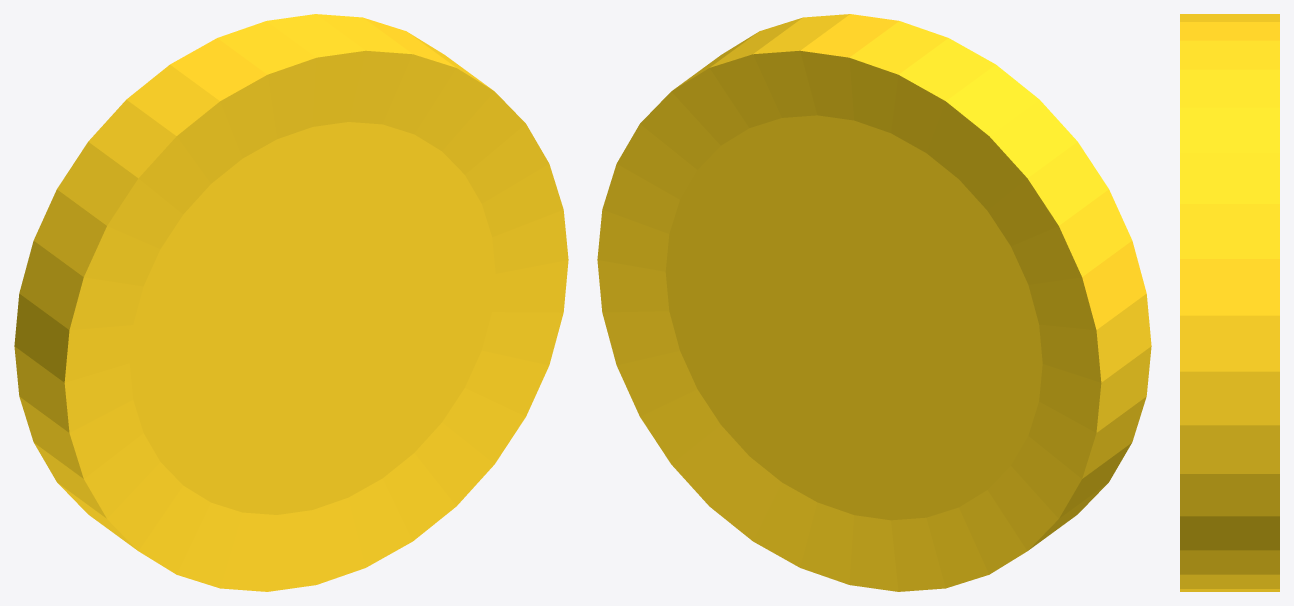
The model's file is coin.fbx.
3 renders of one model, left to right at view 1: azimuth 30°, elevation 25°; view 2: azimuth 150°, elevation 25°; view 3: azimuth 270°, elevation 25°, orthographic.
Visible parts, largest first — view 1: Cylinder; view 2: Cylinder; view 3: Cylinder.
Boxes of the visible parts, box(x1,y1,x2,y2) form: Cylinder: box(14, 14, 568, 591); Cylinder: box(597, 14, 1151, 591); Cylinder: box(1180, 14, 1279, 591).
Size of the model in its own units: 200 by 200 by 34.53.
